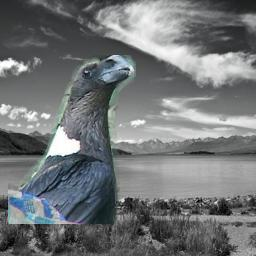Crow: (8, 55, 136, 224)
